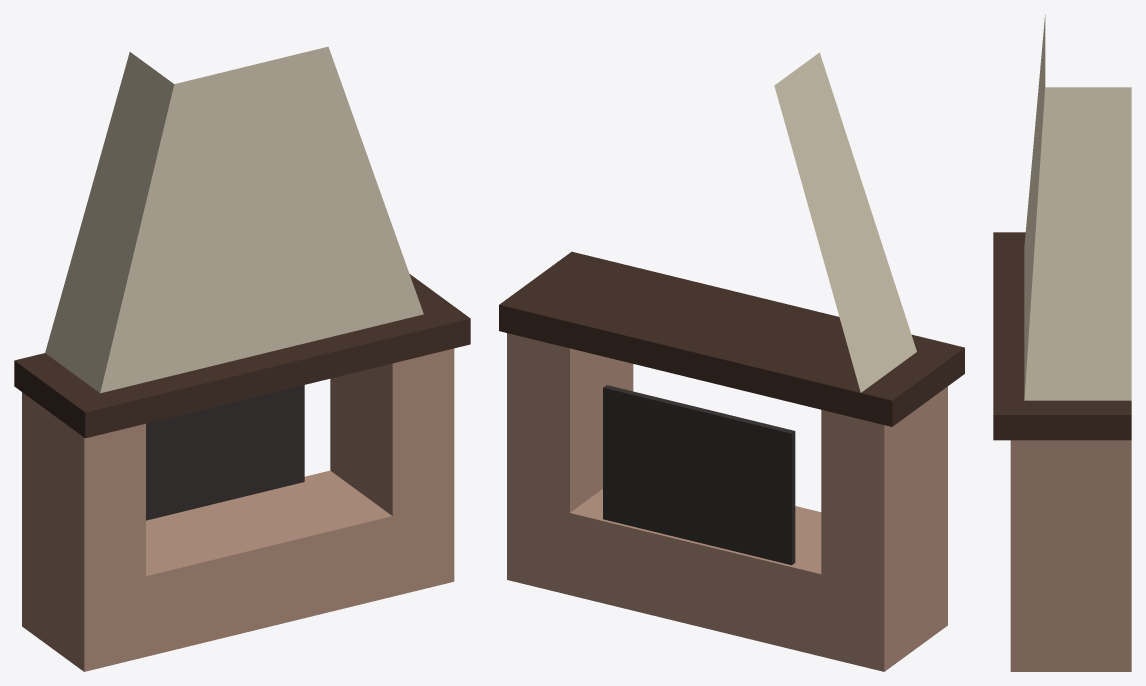
File: lareira.glb
3 renders of one model, left to right at view 1: azimuth 30°, elevation 25°; view 2: azimuth 150°, elevation 25°; view 3: azimuth 270°, elevation 25°, orthographic. The views are drawn at different scales.
Visible parts, largest first — view 1: Malha_0; view 2: Malha_0; view 3: Malha_0.
Part boxes in pixels (x1,y1,x2,y2): Malha_0: (14, 46, 470, 671); Malha_0: (499, 52, 964, 671); Malha_0: (993, 14, 1131, 671).
Size of the model in its own units: 2.5 by 3.4 by 0.8.
